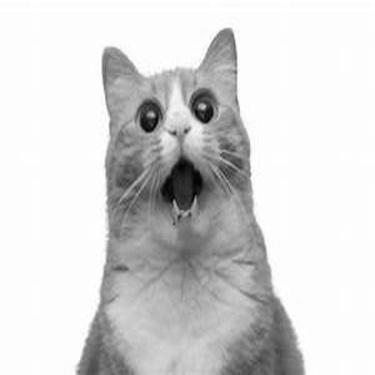cat: (73, 27, 308, 372)
